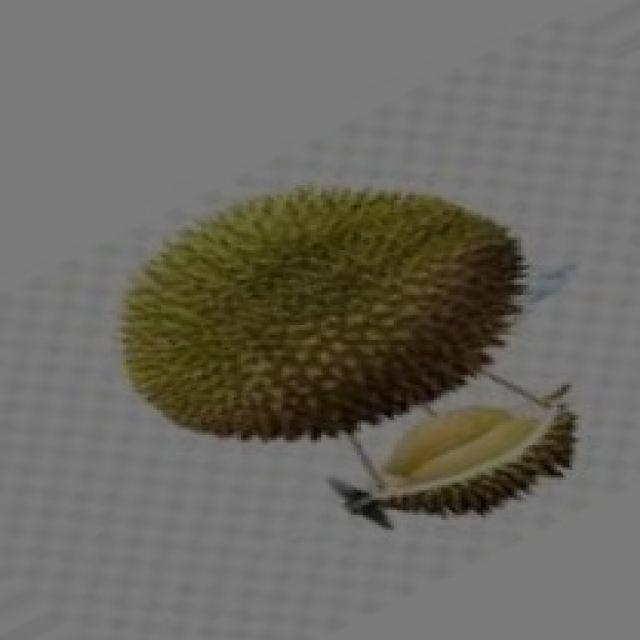fruit: (83, 133, 480, 485)
